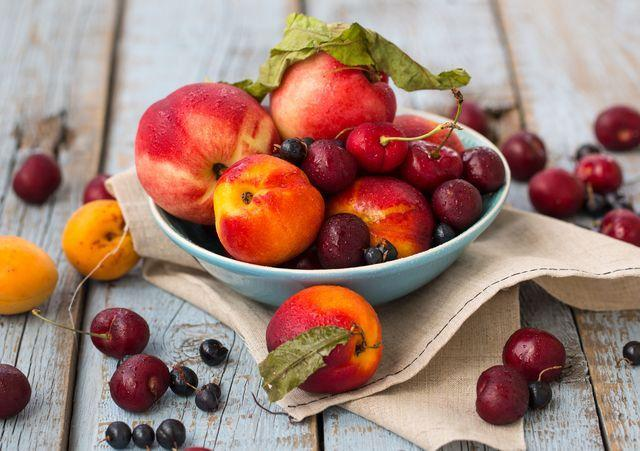apple: (134, 78, 274, 225), (260, 286, 384, 401), (213, 153, 326, 265), (270, 52, 396, 143), (325, 175, 432, 260), (1, 363, 31, 417)
